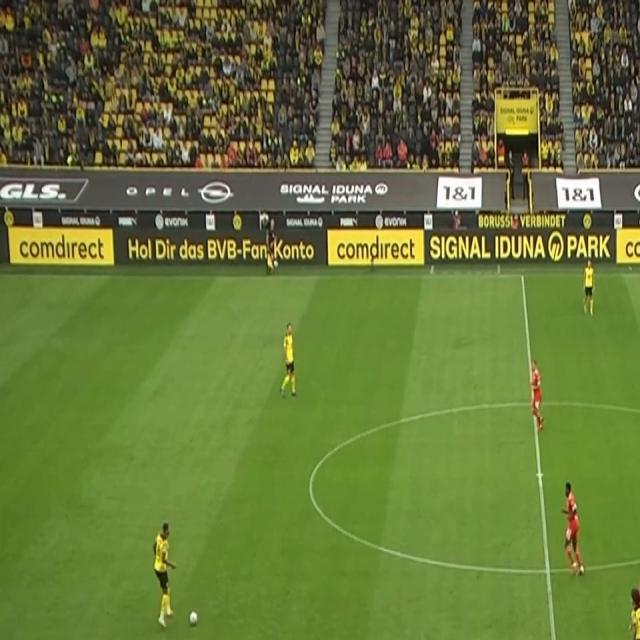ball: (187, 607, 199, 628)
